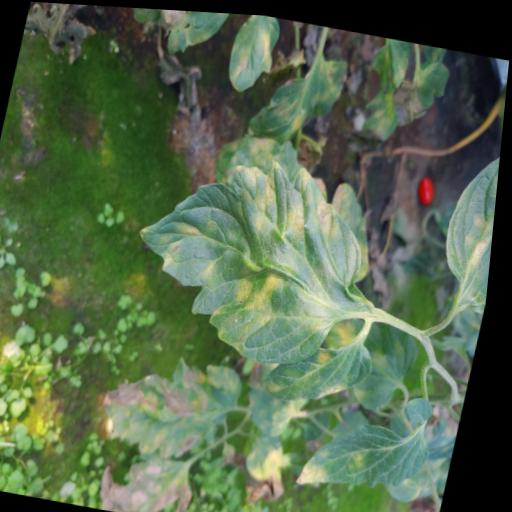Leaf Mold: (121, 136, 383, 372), (102, 341, 253, 470), (303, 369, 448, 501), (435, 125, 504, 307), (246, 40, 353, 148), (266, 321, 384, 408), (223, 11, 281, 94)
